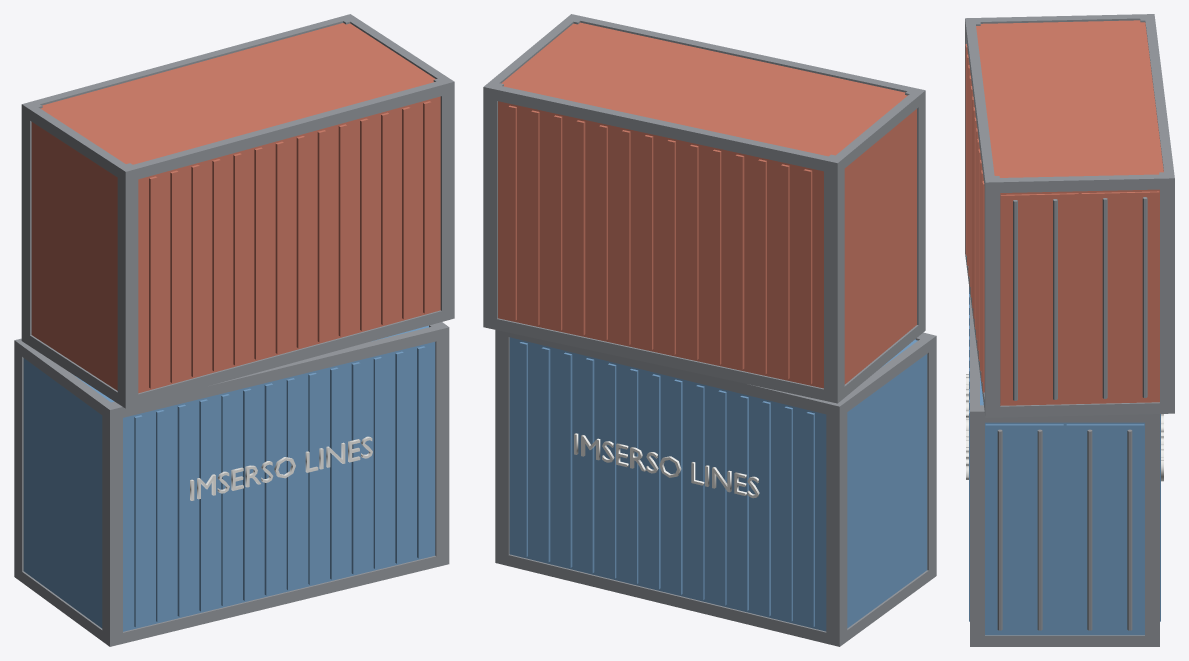
The model's file is CR_Contenedores.fbx.
3 renders of one model, left to right at view 1: azimuth 30°, elevation 25°; view 2: azimuth 150°, elevation 25°; view 3: azimuth 270°, elevation 25°, orthographic. The views are drawn at different scales.
Visible parts, largest first — view 1: CR_Contenedores; view 2: CR_Contenedores; view 3: CR_Contenedores.
Part boxes in pixels (x1=…): CR_Contenedores: x1=14, y1=14, x2=454, y2=646; CR_Contenedores: x1=483, y1=14, x2=936, y2=646; CR_Contenedores: x1=965, y1=14, x2=1174, y2=646.
Size of the model in its own units: 4.07 by 5.2 by 2.1.
